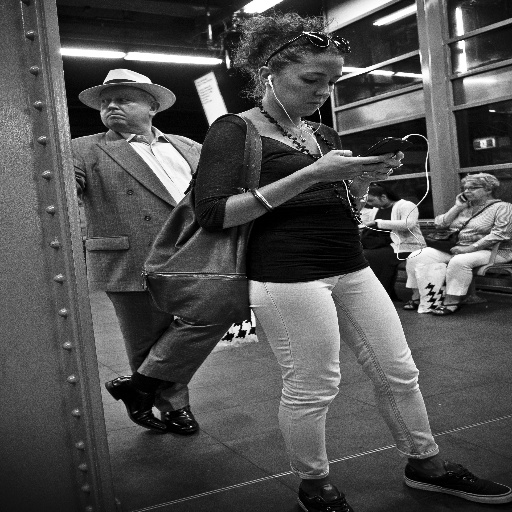hand: (350, 148, 405, 185), (453, 192, 471, 209), (446, 245, 470, 256), (360, 216, 377, 225)
